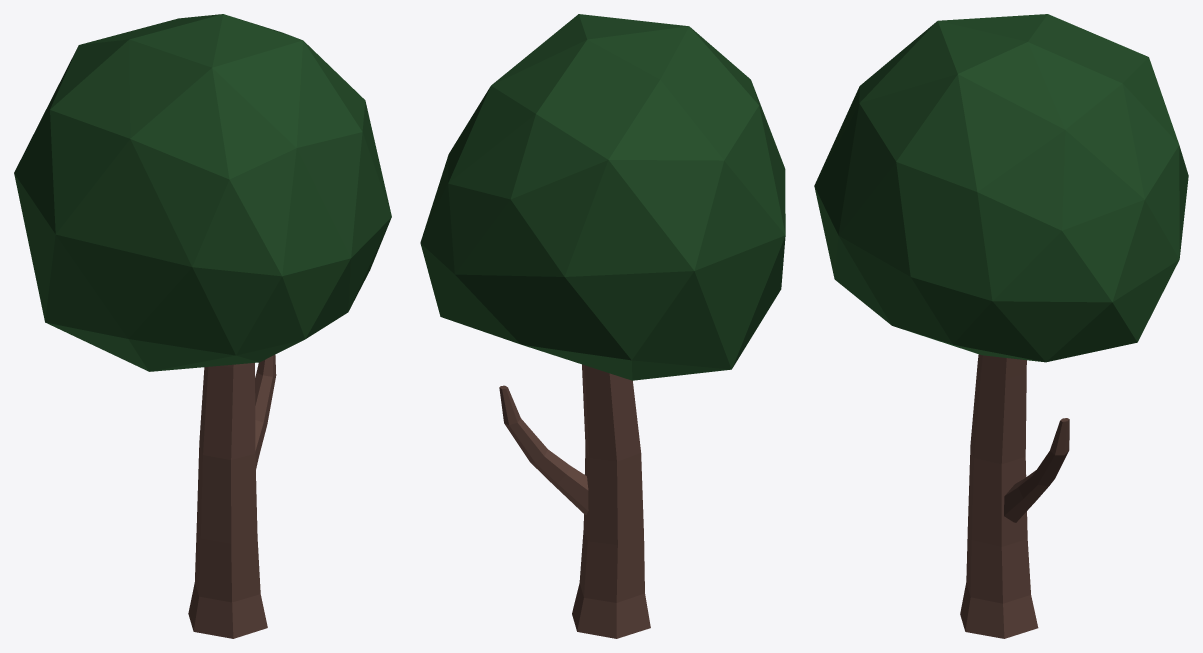
Rendered from Tree(1).fbx.
3 views of the same model, side by side, from view 1: azimuth 30°, elevation 25°; view 2: azimuth 150°, elevation 25°; view 3: azimuth 270°, elevation 25° (orthographic).
Parts seen in each view (by area): view 1: Tree(1); view 2: Tree(1); view 3: Tree(1).
Part boxes in pixels (<box>): Tree(1): <box>14,14,391,638</box>; Tree(1): <box>420,14,785,638</box>; Tree(1): <box>814,14,1188,638</box>.
Bounding box in the file's own units: 3.47 × 6.19 × 3.6.
